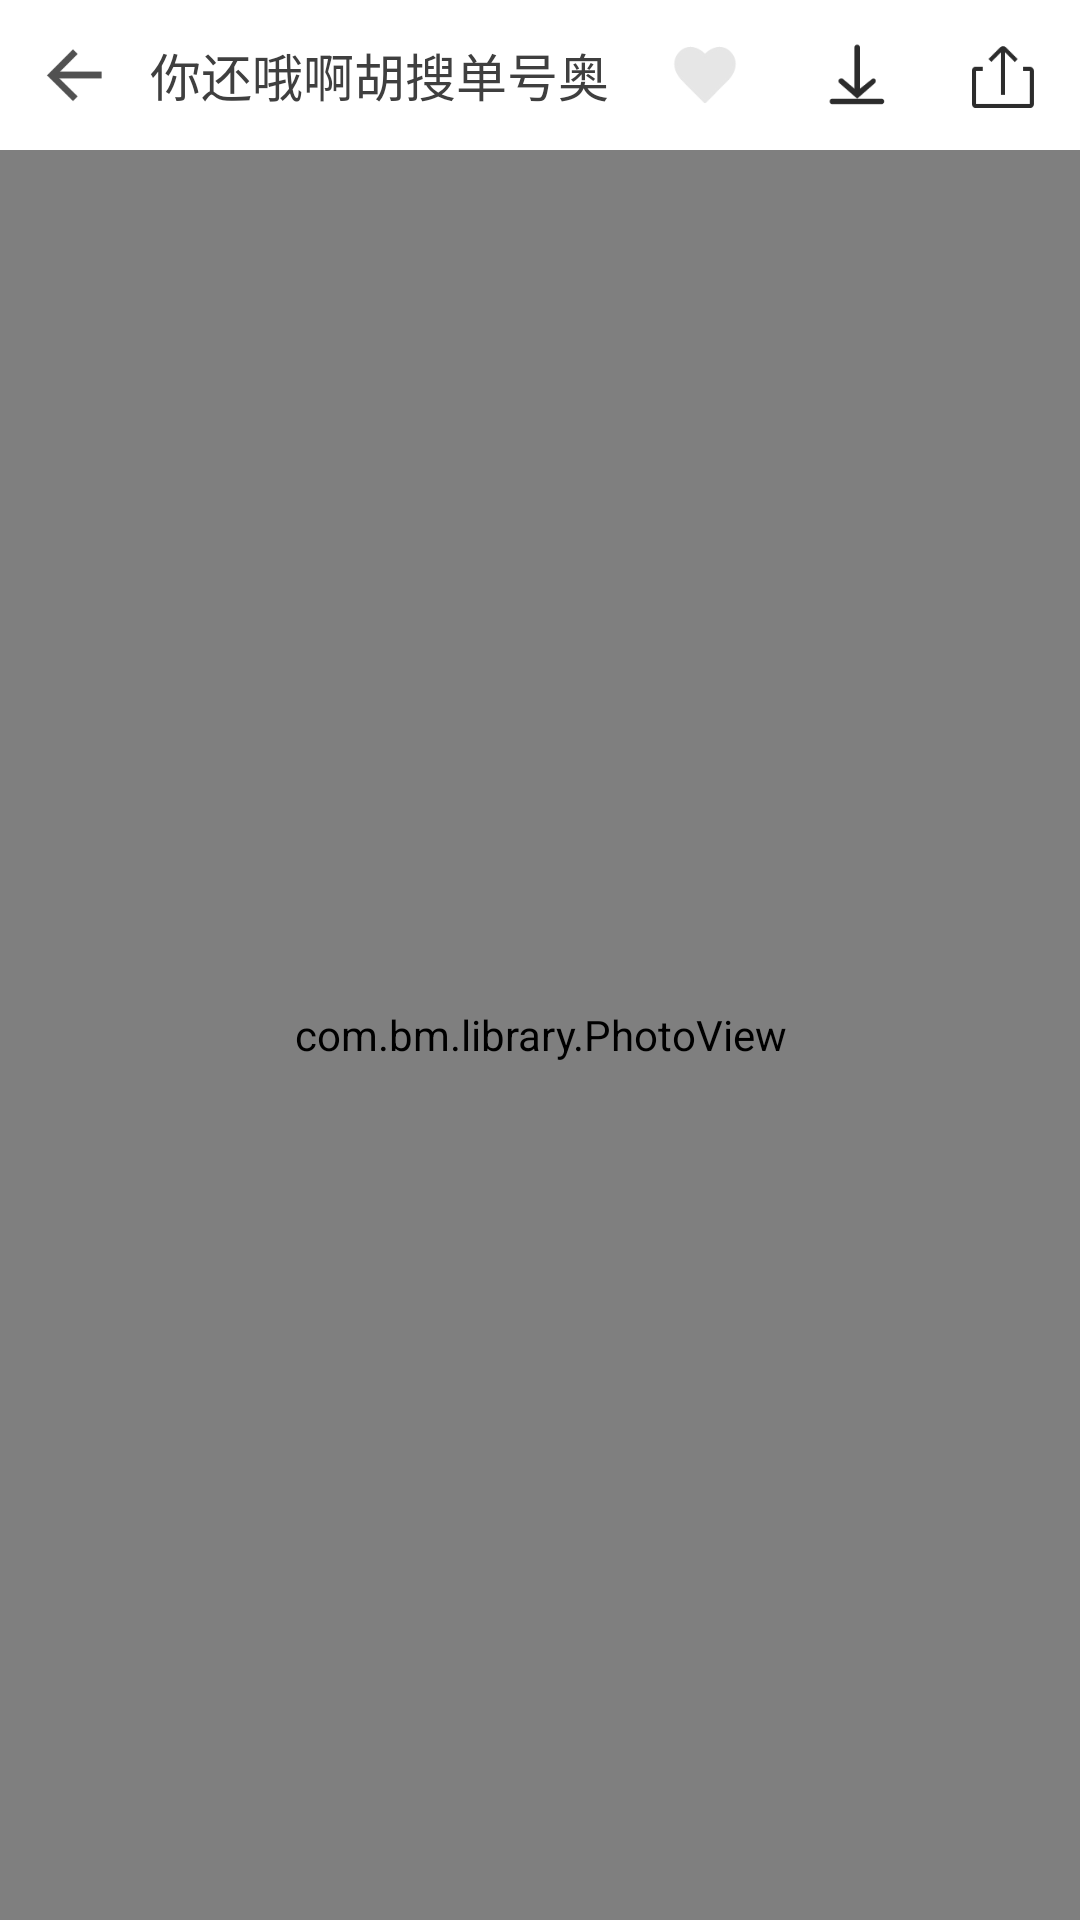

Locate icon controls on the screen. Image size 1080×1920, boxes as (x1, y1, x2, y2).
back: (47, 49, 102, 101)
download: (829, 44, 885, 105)
like: (675, 47, 735, 102)
share: (972, 46, 1034, 108)
